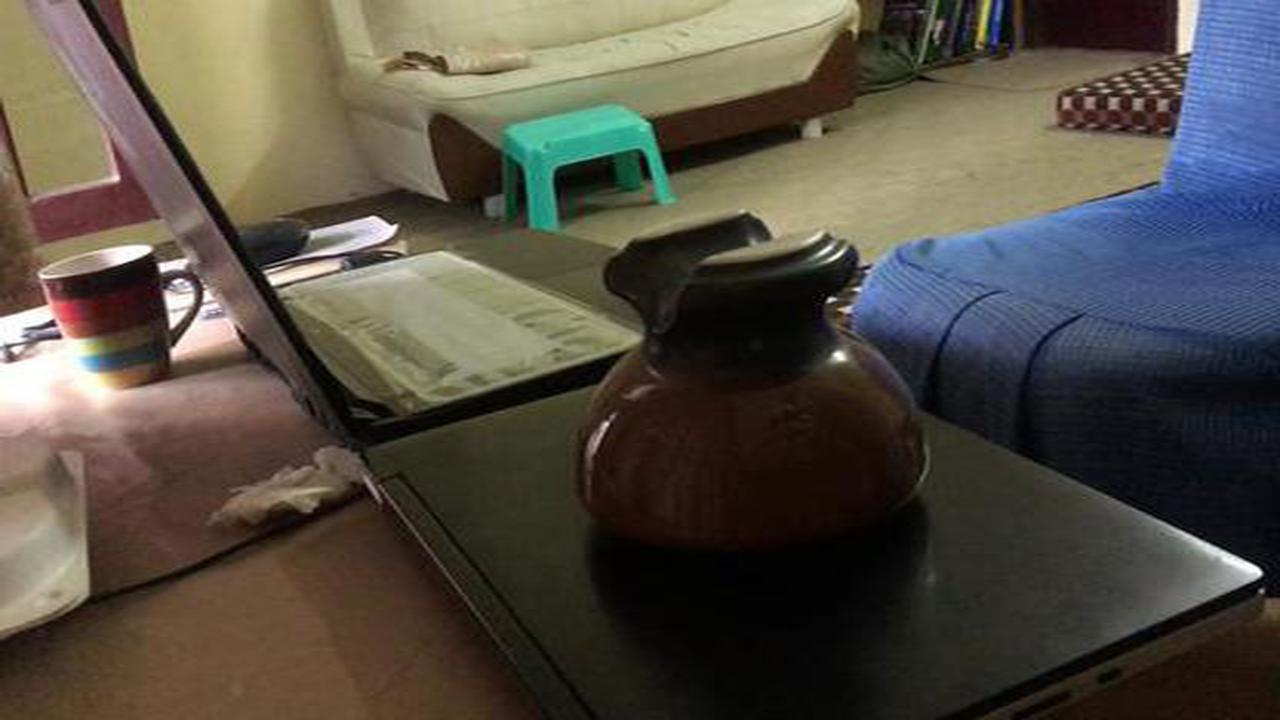insulator_pin: (548, 206, 951, 579)
